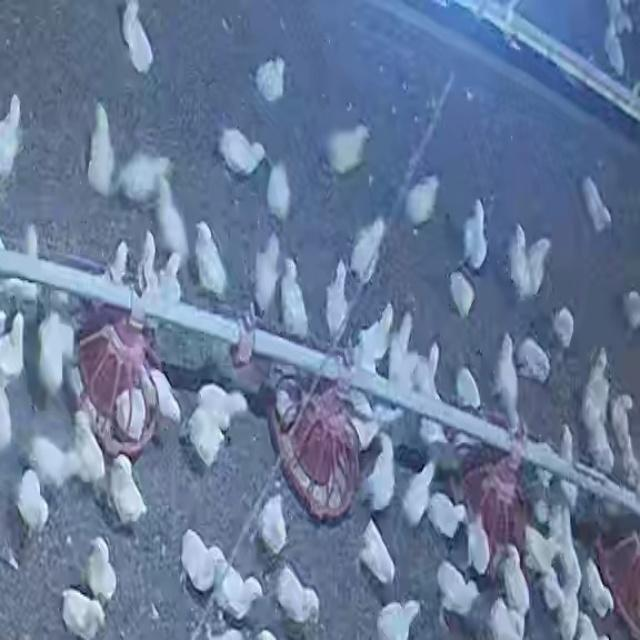chicken: (82, 98, 119, 202), (433, 558, 482, 635), (13, 468, 55, 544), (357, 515, 401, 587), (192, 218, 231, 299), (109, 451, 150, 528), (275, 564, 322, 629), (348, 210, 388, 286), (250, 228, 282, 318), (216, 125, 269, 179), (86, 533, 125, 605), (364, 431, 398, 513), (498, 542, 536, 614), (326, 121, 372, 178), (56, 588, 104, 640), (143, 367, 186, 424), (459, 195, 490, 274), (255, 491, 293, 555), (282, 257, 312, 338), (402, 459, 436, 529), (401, 171, 443, 225), (580, 172, 615, 236), (515, 333, 553, 387), (444, 266, 480, 322), (428, 493, 469, 541), (324, 258, 349, 336), (254, 51, 288, 106), (453, 362, 486, 412), (551, 304, 577, 352)
